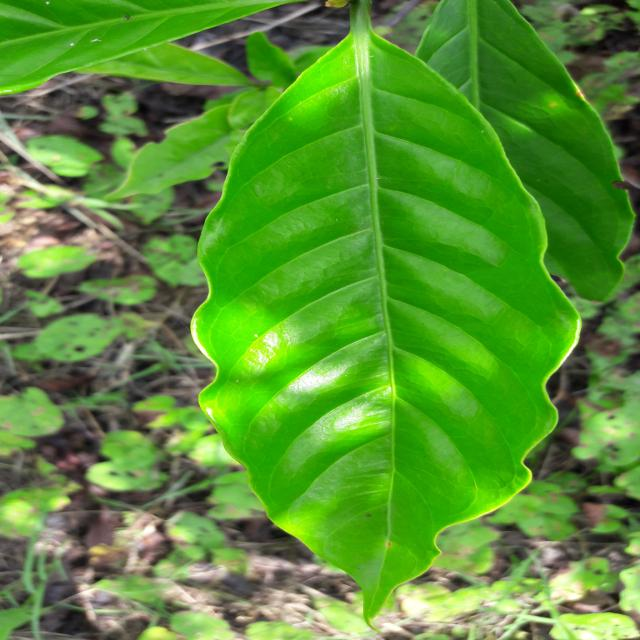Sanas: (191, 0, 582, 621)
